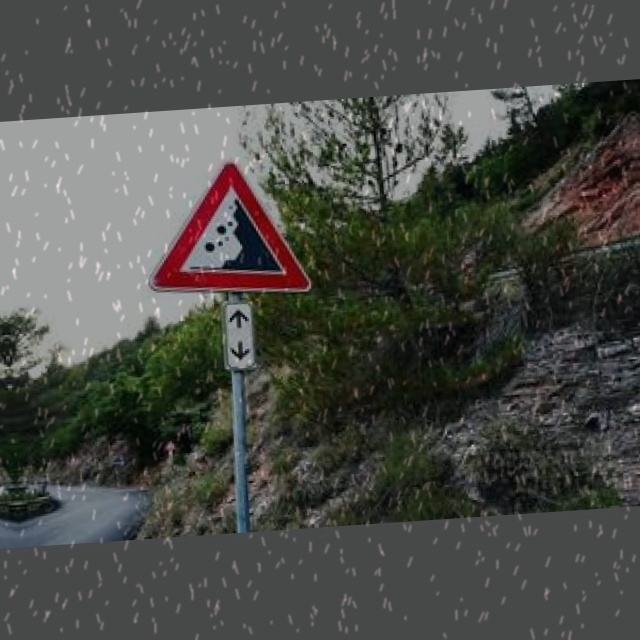Falling_Rocks: (134, 158, 318, 300)
